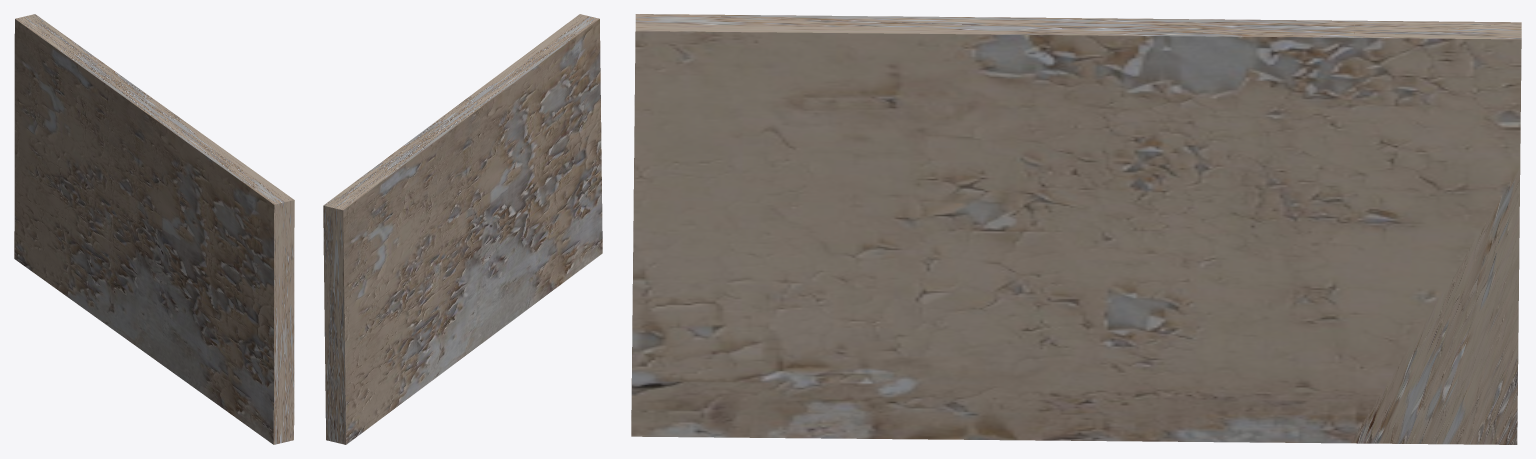
The model's file is wallprop.fbx.
3 views of the same model, side by side, from view 1: azimuth 30°, elevation 25°; view 2: azimuth 150°, elevation 25°; view 3: azimuth 270°, elevation 25° (orthographic). The views are drawn at different scales.
Visible parts, largest first — view 1: pCube23; view 2: pCube23; view 3: pCube23.
Boxes of the visible parts, <box> form: pCube23: <box>14,14,294,444</box>; pCube23: <box>323,14,602,444</box>; pCube23: <box>631,14,1521,444</box>.
Size of the model in its own units: 1.12 by 11.44 by 22.24.
1 material, 1 textured.
